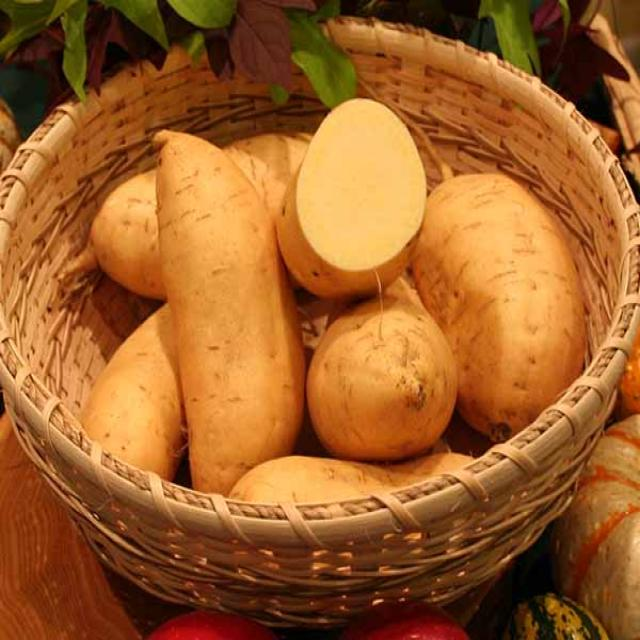sweet potato: (155, 130, 305, 495), (412, 173, 585, 440), (278, 99, 426, 298), (306, 277, 458, 460), (81, 305, 186, 480), (230, 452, 471, 502)
